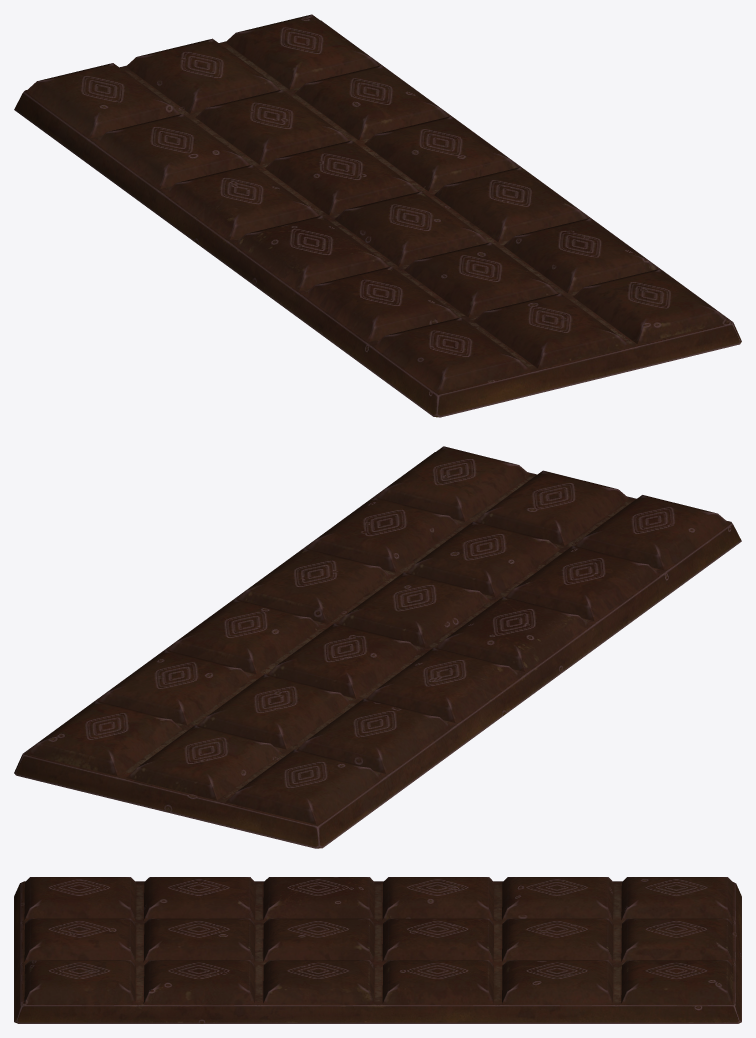
Rendered from chocolate_plate_lowpoly.glb.
3 views of the same model, one above another, from view 1: azimuth 30°, elevation 25°; view 2: azimuth 150°, elevation 25°; view 3: azimuth 270°, elevation 25° (orthographic). The views are drawn at different scales.
Visible parts, largest first — view 1: chocolate_fin; view 2: chocolate_fin; view 3: chocolate_fin.
Part boxes in pixels (<box>): chocolate_fin: <box>14,14,741,417</box>; chocolate_fin: <box>14,446,741,848</box>; chocolate_fin: <box>14,877,741,1023</box>.
Bounding box in the file's own units: 0.1143 × 0.0121 × 0.272.
1 material, 1 textured.
